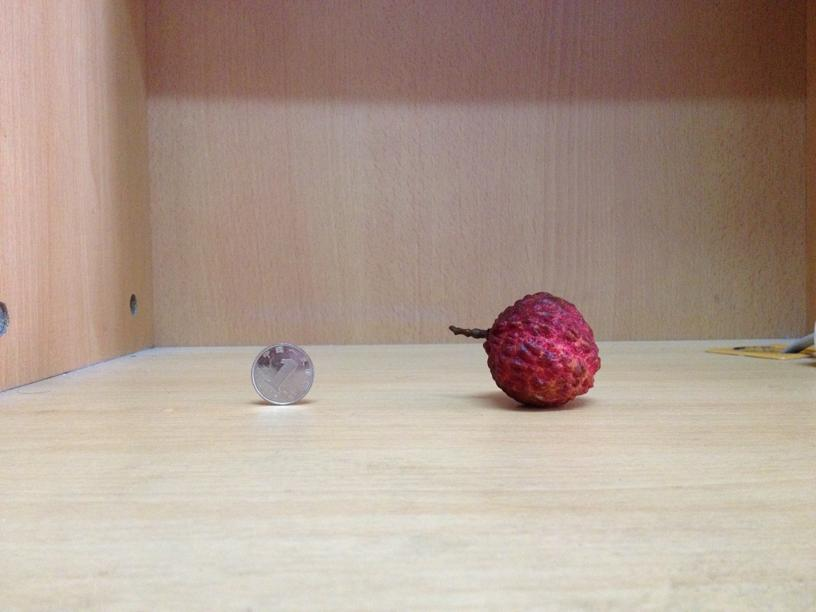coin: (247, 341, 313, 403)
litchi: (482, 292, 600, 407)
